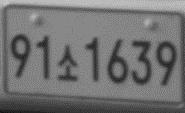1: (85, 36, 100, 83), (35, 35, 49, 80)
3: (130, 39, 152, 85)
6: (106, 38, 129, 83)
9: (10, 32, 32, 78), (156, 40, 176, 87)
소: (55, 43, 80, 82)
